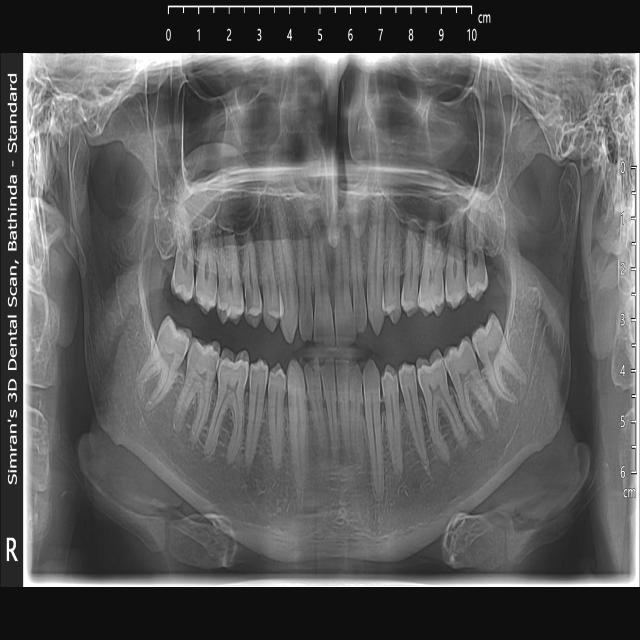Caries: (217, 274, 243, 317), (242, 285, 267, 321)
